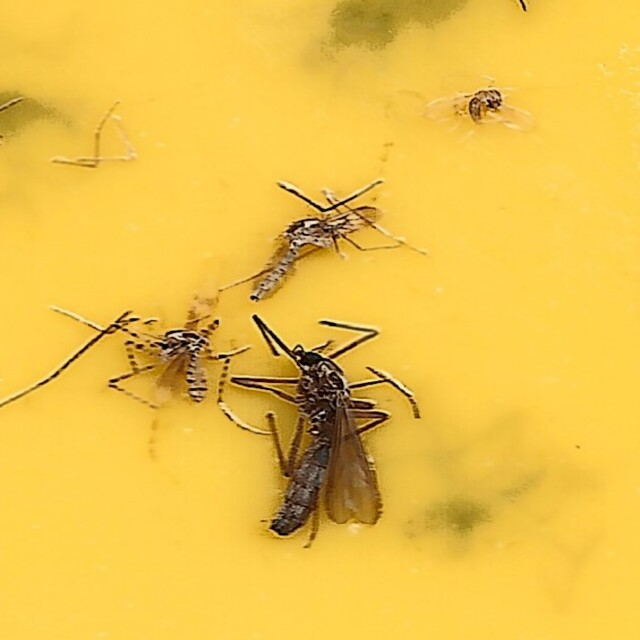Nematocera: (221, 315, 389, 551), (248, 205, 379, 307), (113, 320, 244, 412), (433, 89, 527, 133)
